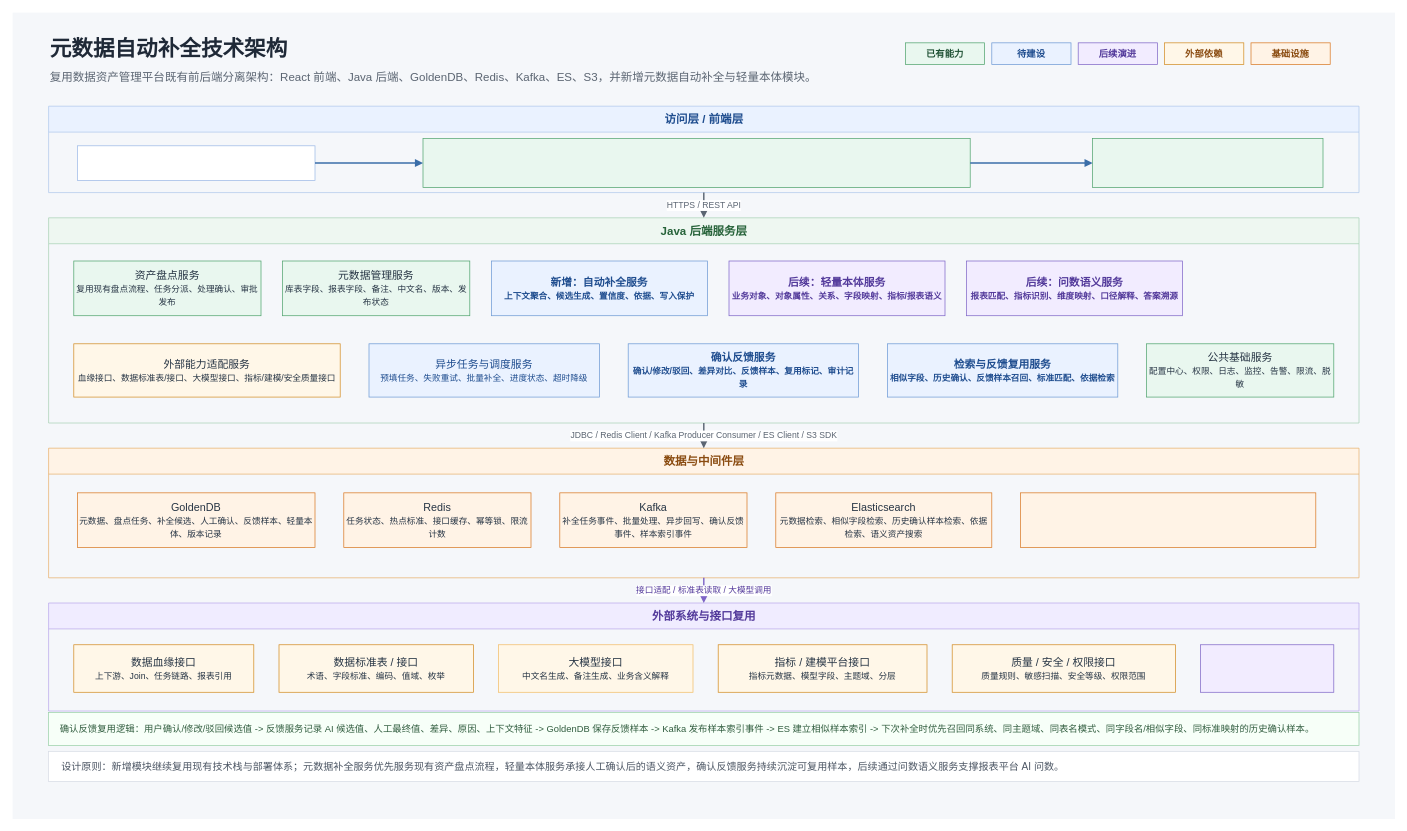
Some shapes in this 1407 by 831 pixel diagram are drawn without their labels. Here are the shapes that lost their labels. From the top down, the centre of each, then its label:
At [196,162]: "数据治理人员 / 技术 Owner / 业务 Owner".
At [696,163]: "React 前端 资产盘点页 / 处理确认弹窗 / 依据抽屉 / 轻量本体管理页 / AI问数语义配置".
At [1207,163]: "Agent 网关 / 认证鉴权 SSO、菜单权限、接口鉴权、审计流水".
At [1168,520]: "S3 对象存储 主要存放导入 Excel、导出 Excel、批量补全结果文件".
At [1267,668]: "报表平台 / AI问数入口 二期消费轻量本体与问数语义服务".
